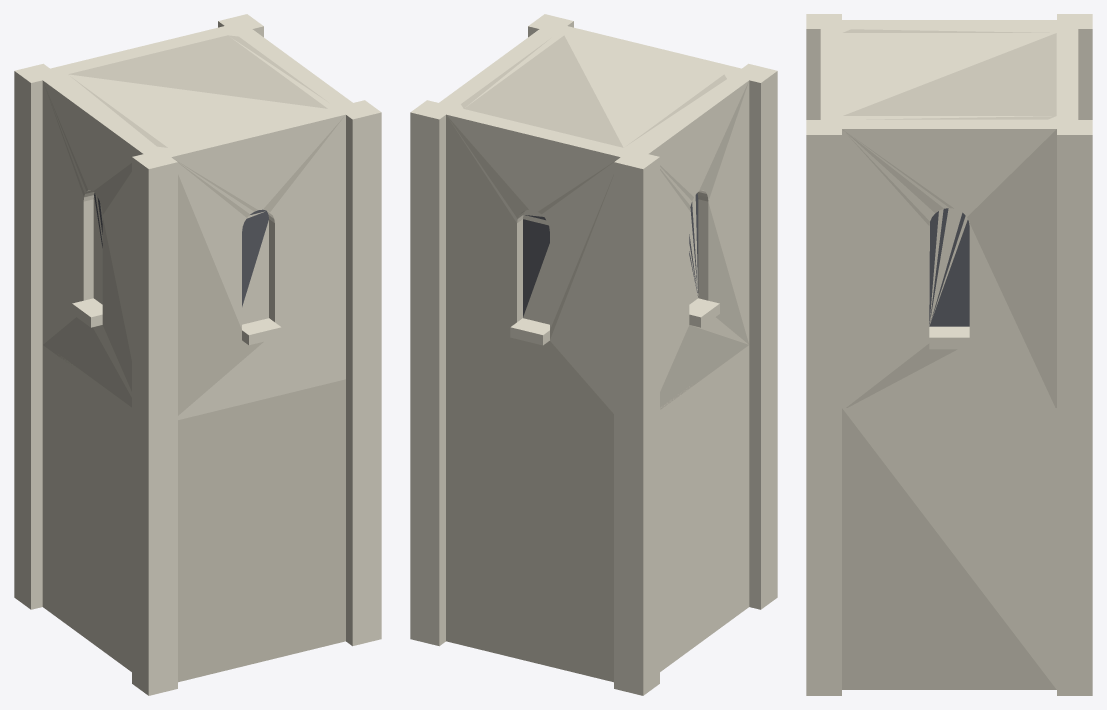
File: 2level.glb
The picture shows the model from 3 angles, left to right: view 1: azimuth 30°, elevation 25°; view 2: azimuth 150°, elevation 25°; view 3: azimuth 270°, elevation 25°; orthographic projection. The views are drawn at different scales.
Parts seen in each view (by area): view 1: towerSquareMidWindows.020, towerSquareMid.026; view 2: towerSquareMidWindows.020, towerSquareMid.026; view 3: towerSquareMidWindows.020, towerSquareMid.026.
Boxes of the visible parts, <box> form: towerSquareMidWindows.020: <box>14,14,381,433</box>; towerSquareMid.026: <box>14,333,381,695</box>; towerSquareMidWindows.020: <box>410,14,777,430</box>; towerSquareMid.026: <box>410,333,777,695</box>; towerSquareMidWindows.020: <box>806,14,1092,416</box>; towerSquareMid.026: <box>806,408,1092,695</box>.
Bounding box in the file's own units: 9.3 × 20.1 × 9.3.
